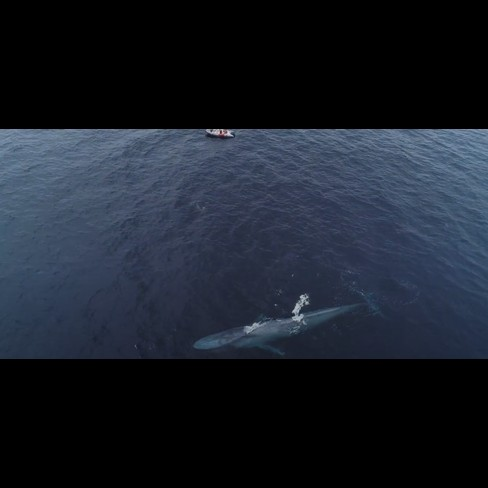bluewhale: (189, 281, 394, 359)
boat: (203, 129, 242, 141)
